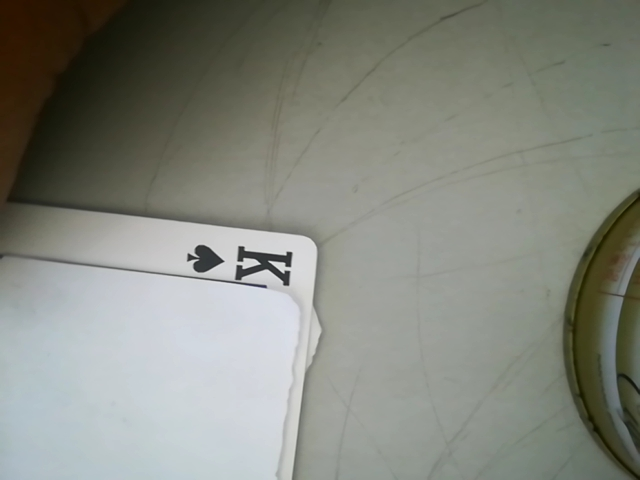ht k: (176, 233, 315, 295)
